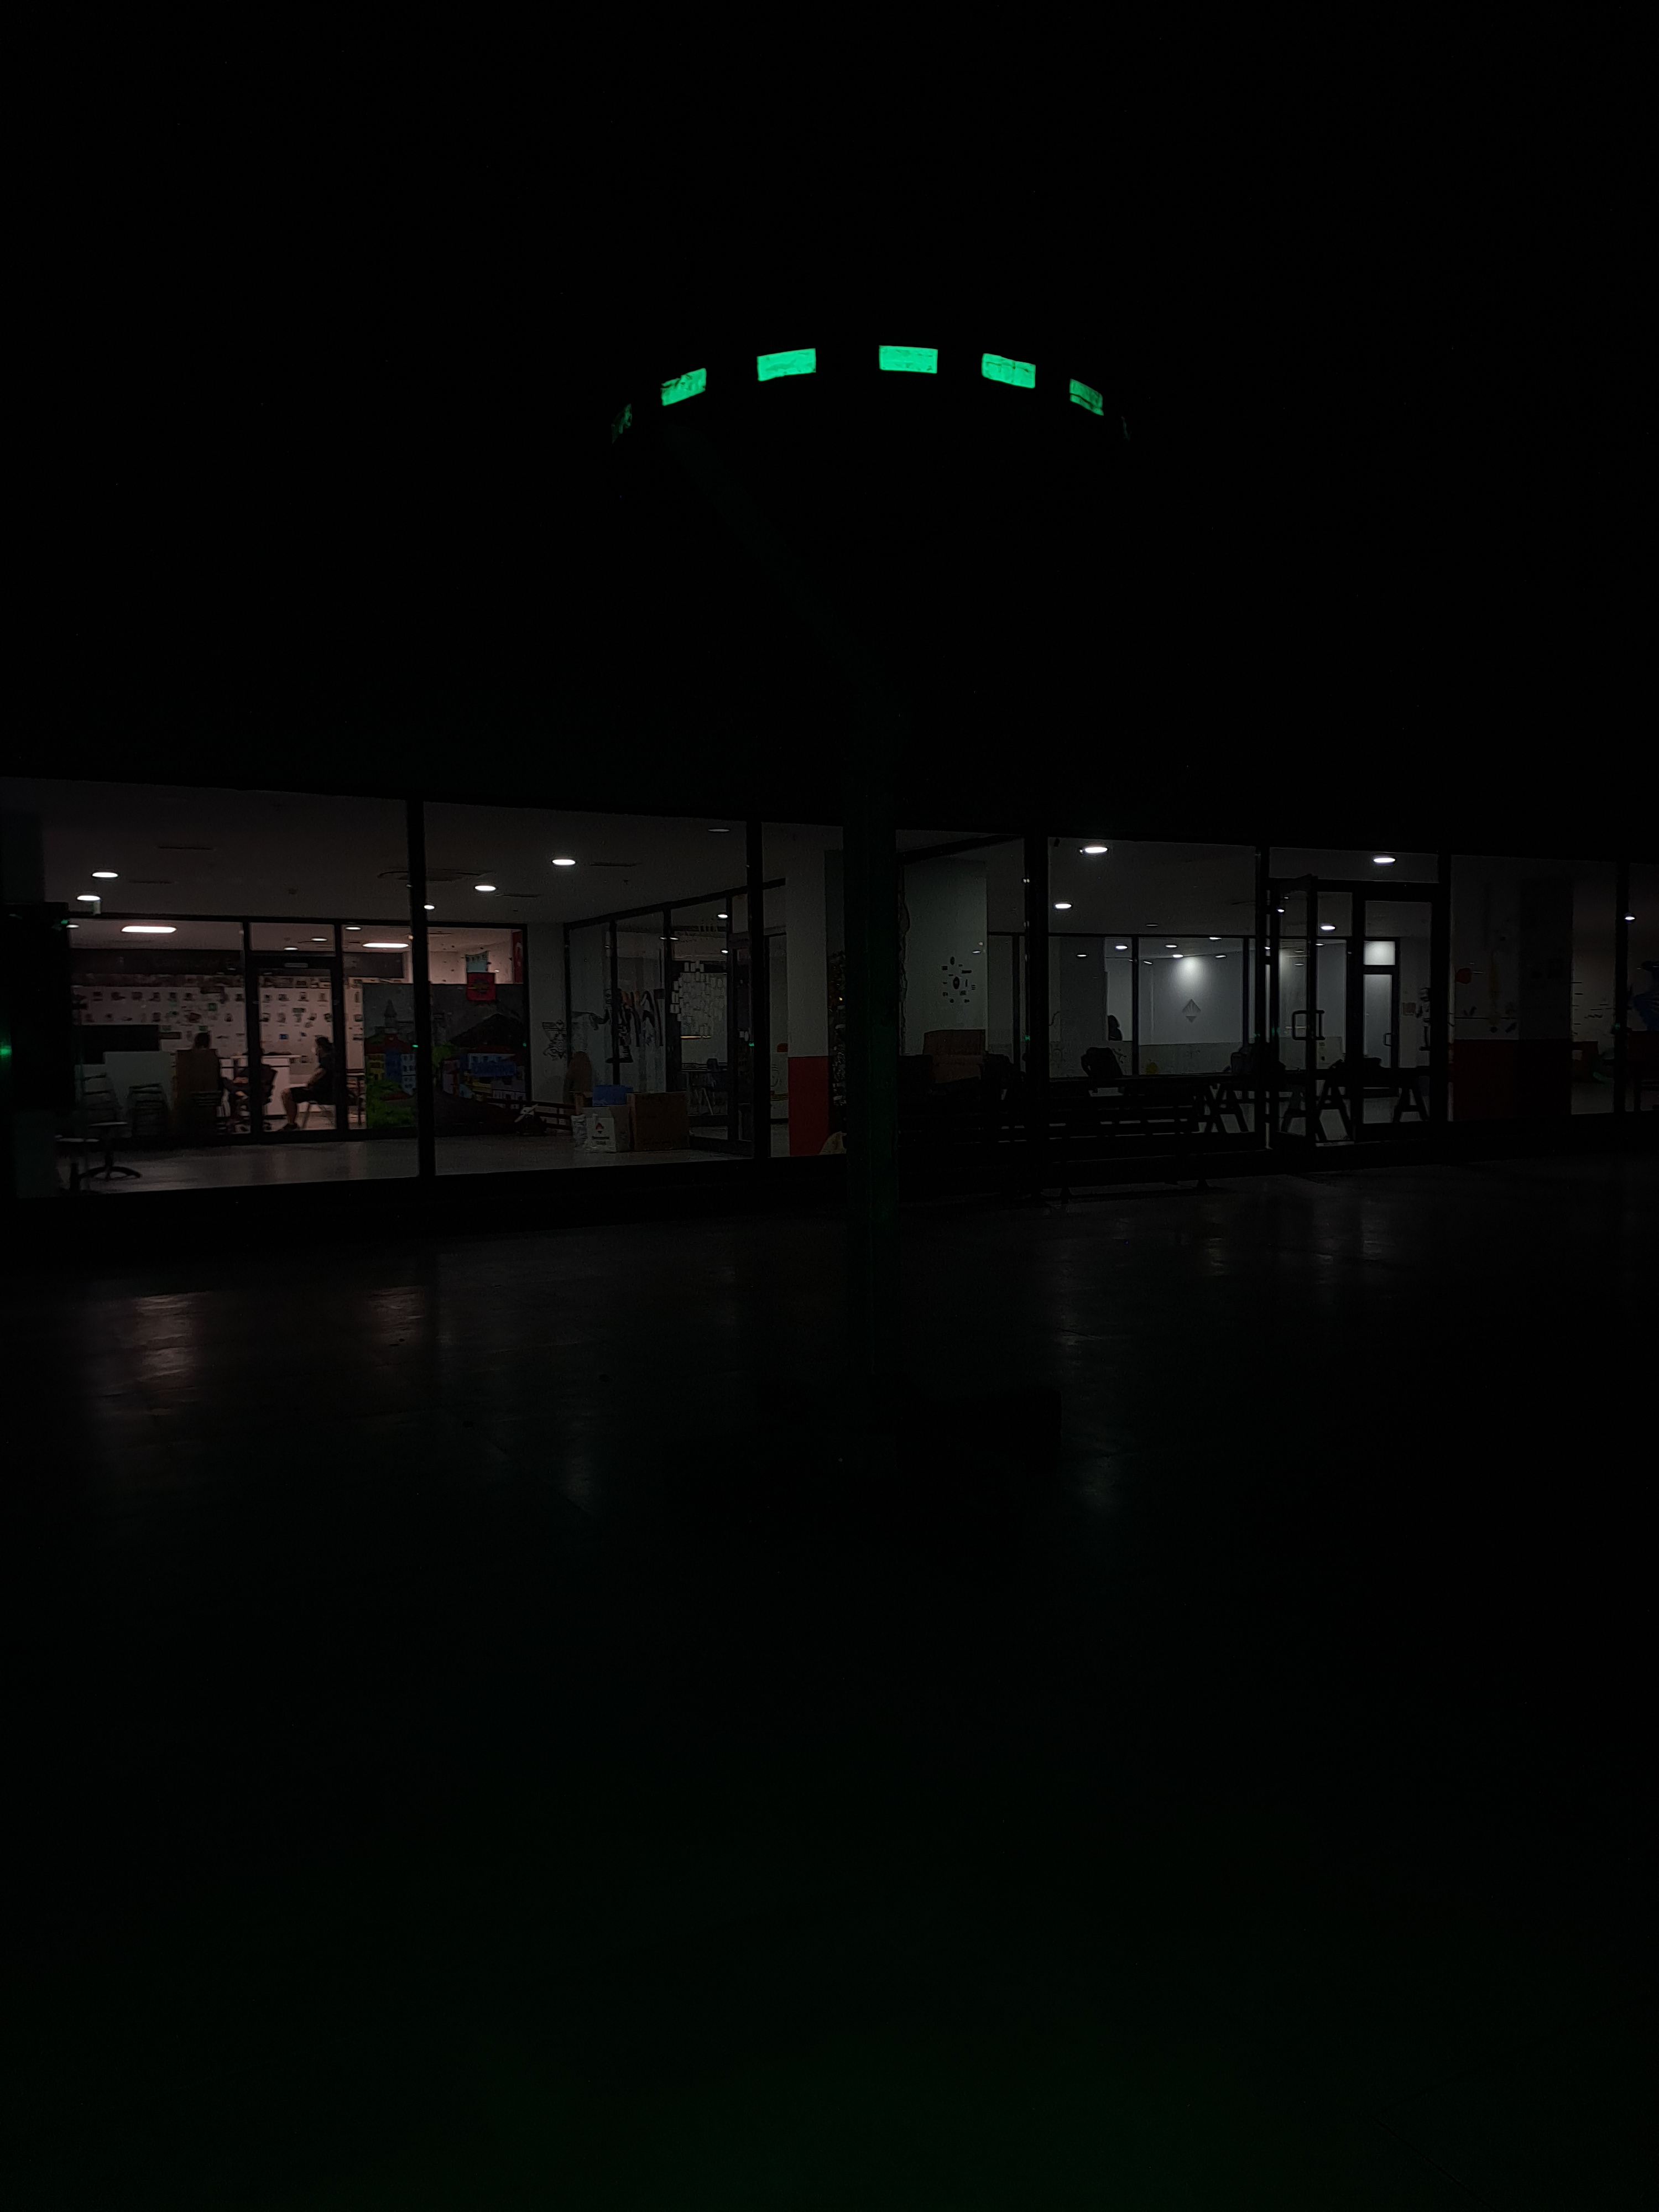hoop: (643, 340, 1108, 428)
